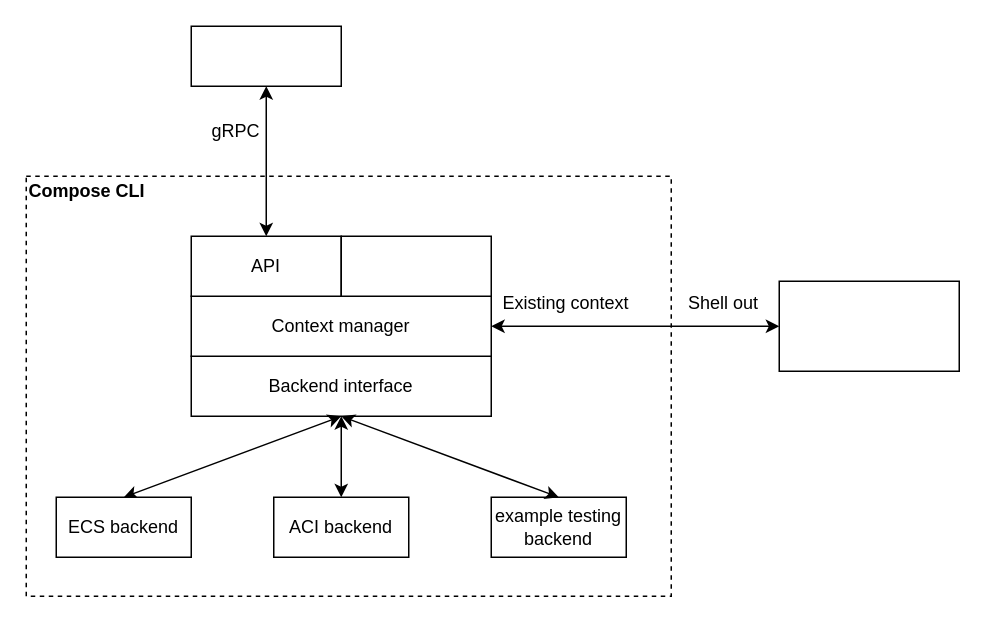
Image size: 986x623. Some labels were removed from this diagram. The centre of each missing label's shape, as x and y in pixels:
CLI UX: the point at 415,265
Existing CLI: the point at 868,325
Node SDK: the point at 265,55
